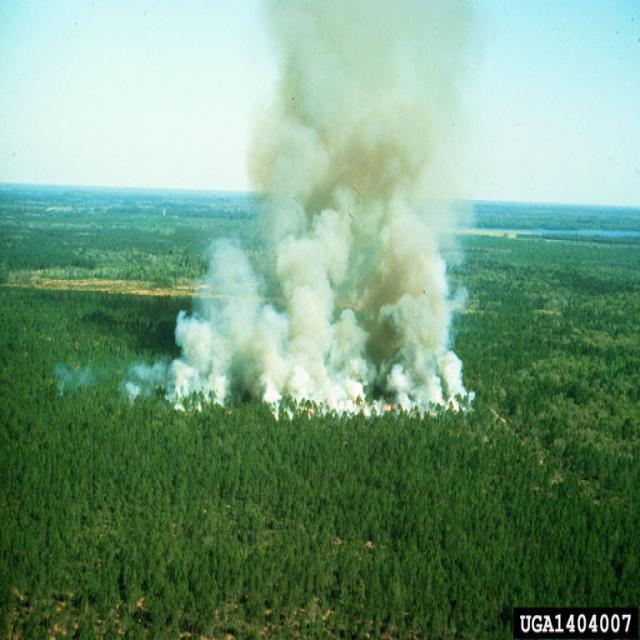Smoke: (125, 0, 500, 422)
